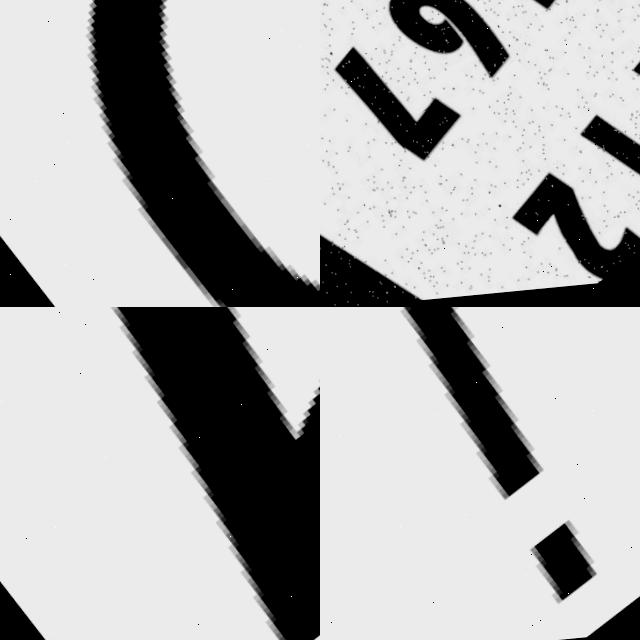1: (0, 307, 320, 640), (543, 68, 640, 257)
2: (464, 127, 640, 299)
5: (396, 0, 612, 74)
6: (337, 0, 553, 149)
7: (320, 0, 482, 220)
J: (320, 307, 640, 640)
